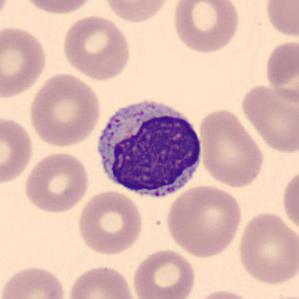Lymphocyte: (90, 92, 208, 204)
RBC: (164, 183, 244, 258), (26, 71, 103, 148), (197, 106, 266, 189), (60, 13, 132, 82), (235, 210, 298, 287), (75, 189, 144, 256), (238, 81, 298, 155), (23, 150, 90, 214), (170, 0, 242, 54), (0, 24, 48, 99), (131, 247, 198, 299), (65, 263, 139, 299), (0, 113, 35, 186), (0, 263, 69, 299), (262, 37, 298, 105), (100, 0, 172, 25), (263, 0, 298, 40), (280, 166, 299, 236), (19, 0, 97, 15), (187, 287, 257, 299), (0, 0, 12, 27)
